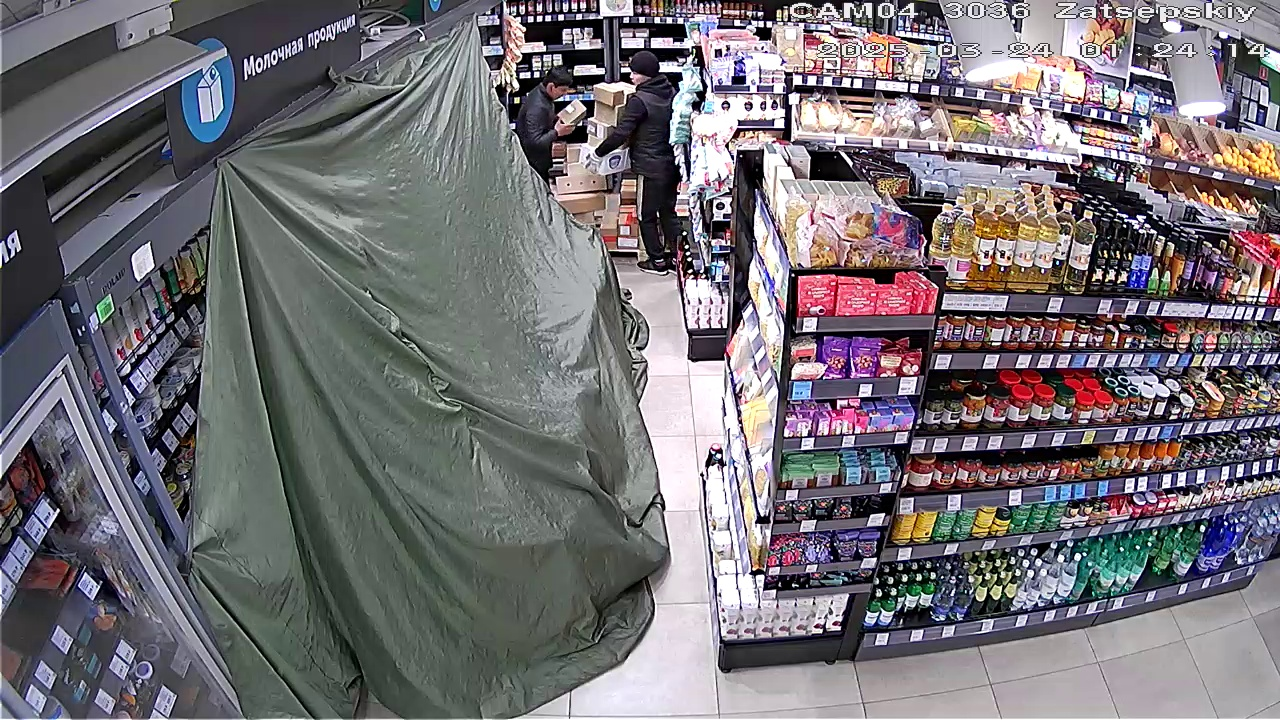Human: (595, 40, 707, 288), (515, 49, 570, 171)
dome: (215, 61, 663, 719)
